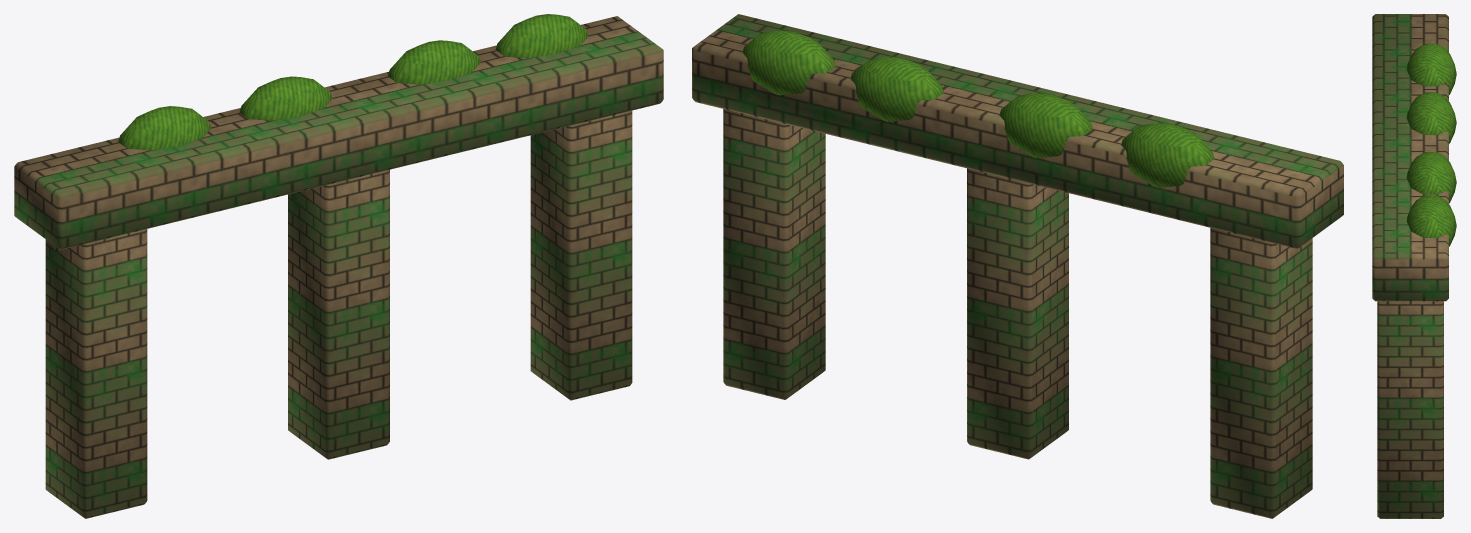
File: prop_canyon_arch.glb
The picture shows the model from 3 angles, left to right: view 1: azimuth 30°, elevation 25°; view 2: azimuth 150°, elevation 25°; view 3: azimuth 270°, elevation 25°; orthographic projection. The views are drawn at different scales.
Parts seen in each view (by area): view 1: AqPillar_-18.0; view 2: AqPillar_-18.0; view 3: AqPillar_-18.0.
Boxes of the visible parts, x1=… form: AqPillar_-18.0: x1=14, y1=14, x2=663, y2=518; AqPillar_-18.0: x1=692, y1=14, x2=1343, y2=518; AqPillar_-18.0: x1=1372, y1=14, x2=1456, y2=518.
Size of the model in its own units: 45 by 25.5 by 6.6.
2 materials, 2 textured.
